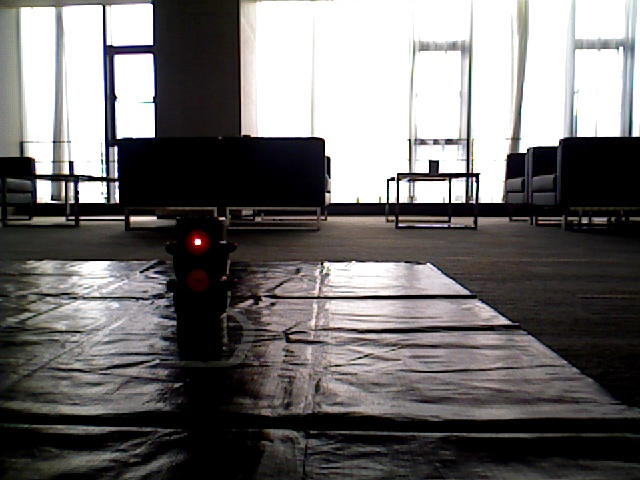red: (177, 211, 220, 318)
